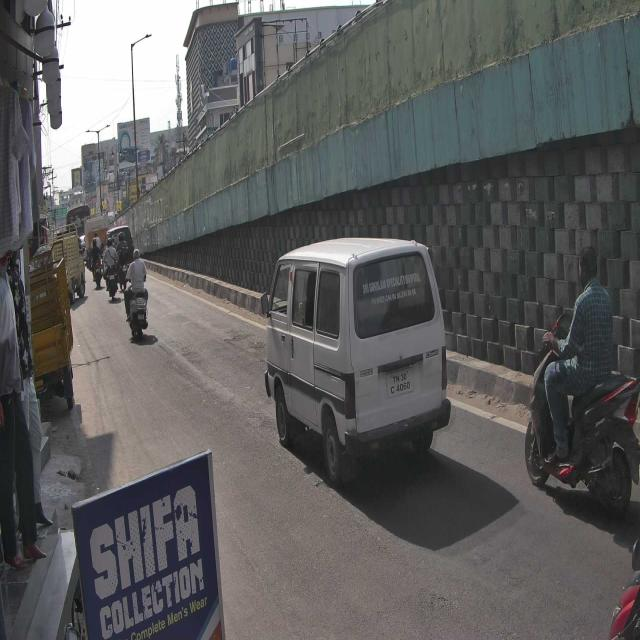single_rider: (522, 242, 640, 516)
